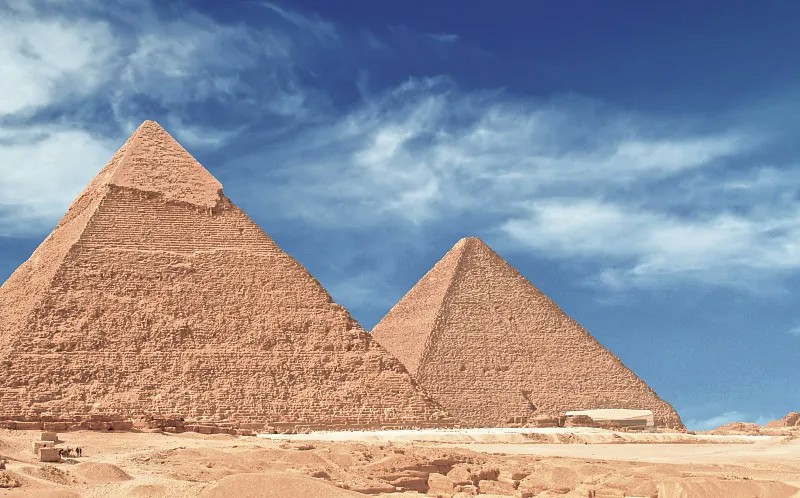Pyramid: (1, 121, 461, 427), (371, 235, 686, 430)
